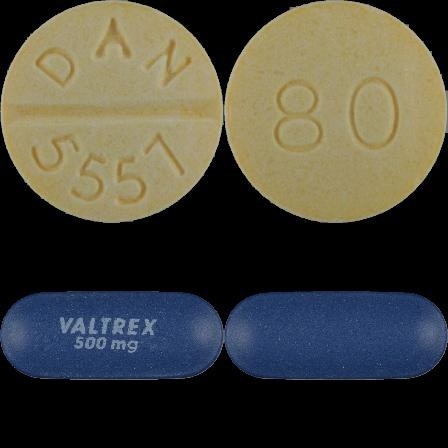63629-3587: (0, 0, 224, 224)
